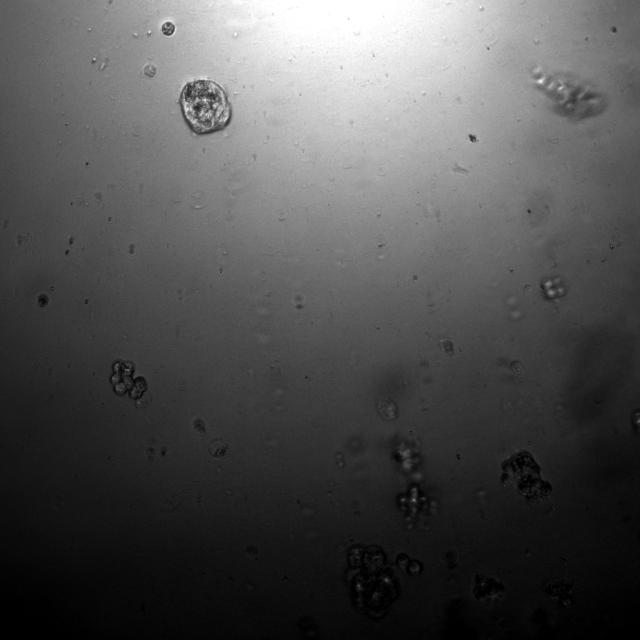organoid: (391, 435, 439, 529), (346, 544, 398, 617), (532, 68, 605, 119), (179, 78, 230, 133), (501, 452, 551, 504), (110, 359, 150, 408), (472, 574, 504, 602), (542, 579, 574, 607), (540, 276, 566, 299), (396, 553, 422, 575), (376, 396, 398, 420), (334, 450, 345, 468), (161, 21, 175, 35), (143, 63, 156, 78), (36, 294, 49, 307)
